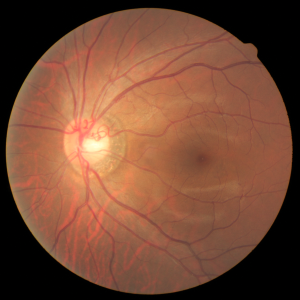glaucoma: (50, 104, 245, 222)
